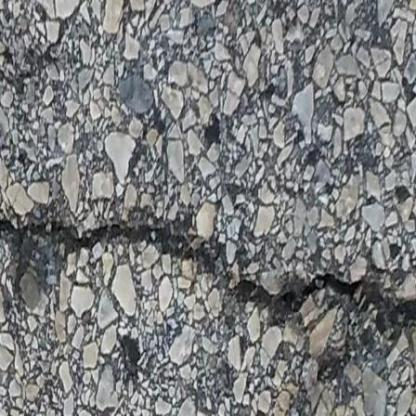Cracks: (0, 170, 416, 391)
